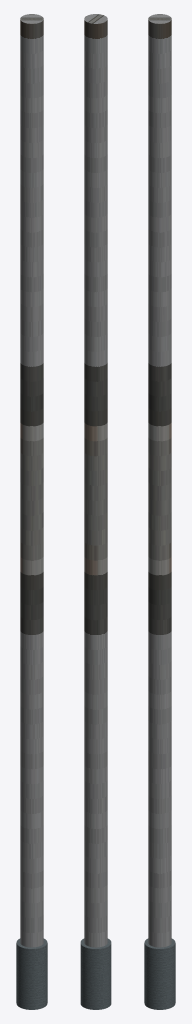
Rendered from hanger.glb.
3 renders of one model, left to right at view 1: azimuth 90°, elevation 25°; view 2: azimuth 150°, elevation 25°; view 3: azimuth 270°, elevation 25°, orthographic.
Visible parts, largest first — view 1: tube, base; view 2: tube, base; view 3: tube, base.
Part boxes in pixels (x1,y1,x2,y2): tube: (20,14,43,947); base: (16,938,47,1009); tube: (84,14,107,947); base: (80,938,111,1009); tube: (148,14,171,947); base: (144,938,175,1009).
Size of the model in its own units: 0.018 by 0.6305 by 0.018.
2 materials, 2 textured.
